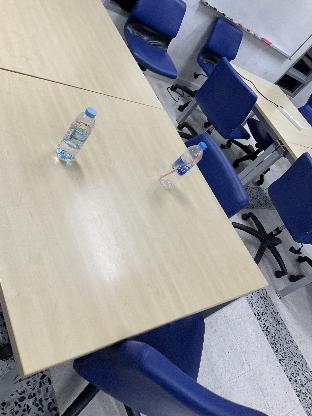Plastic Bottle: (158, 140, 208, 192), (57, 106, 98, 162)
